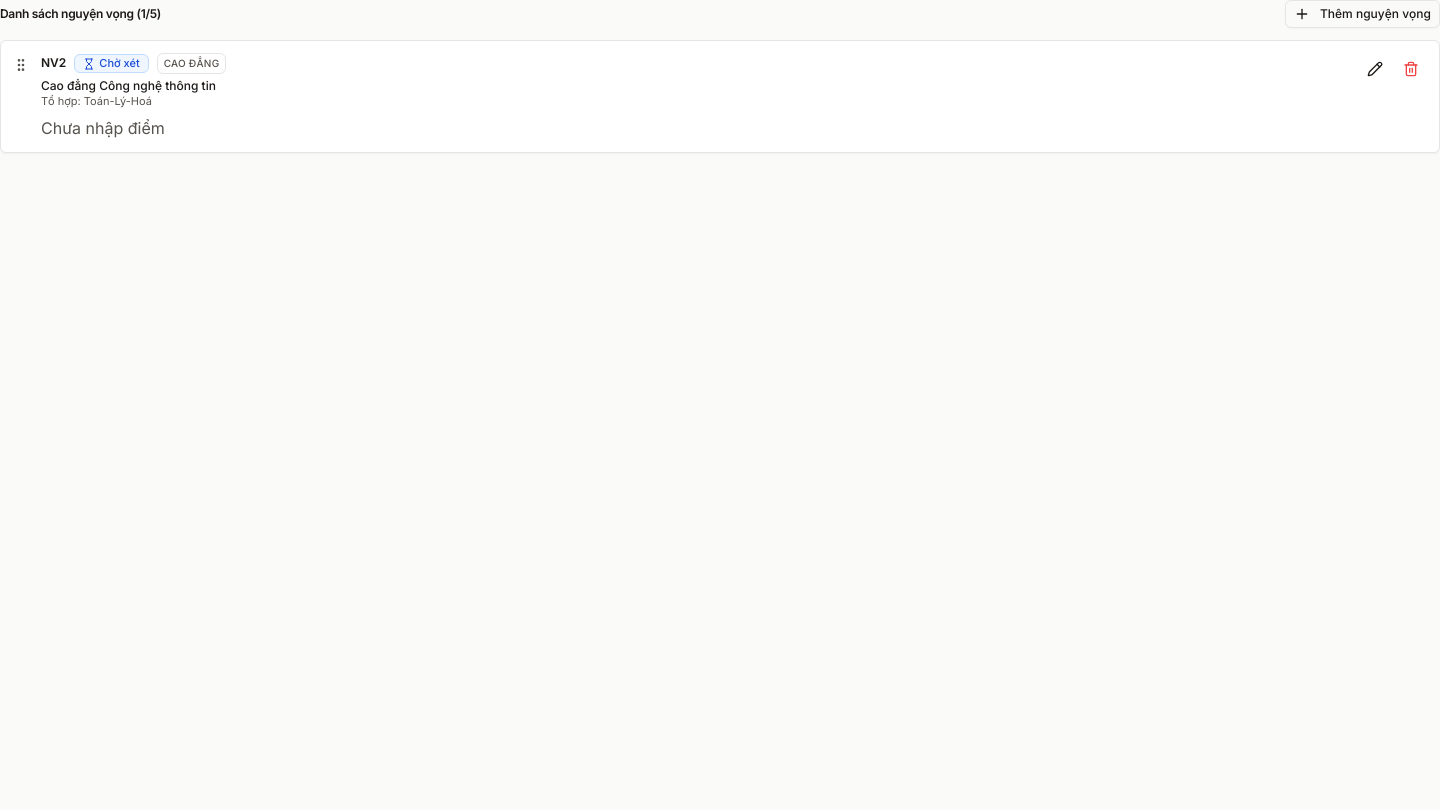
Test: ChoiceListEditor › clicking delete shows confirm dialog with NV label + choice display name
Click the button named "Xoá nguyện vọng 2": (1411,69) [1395,53,1427,85]
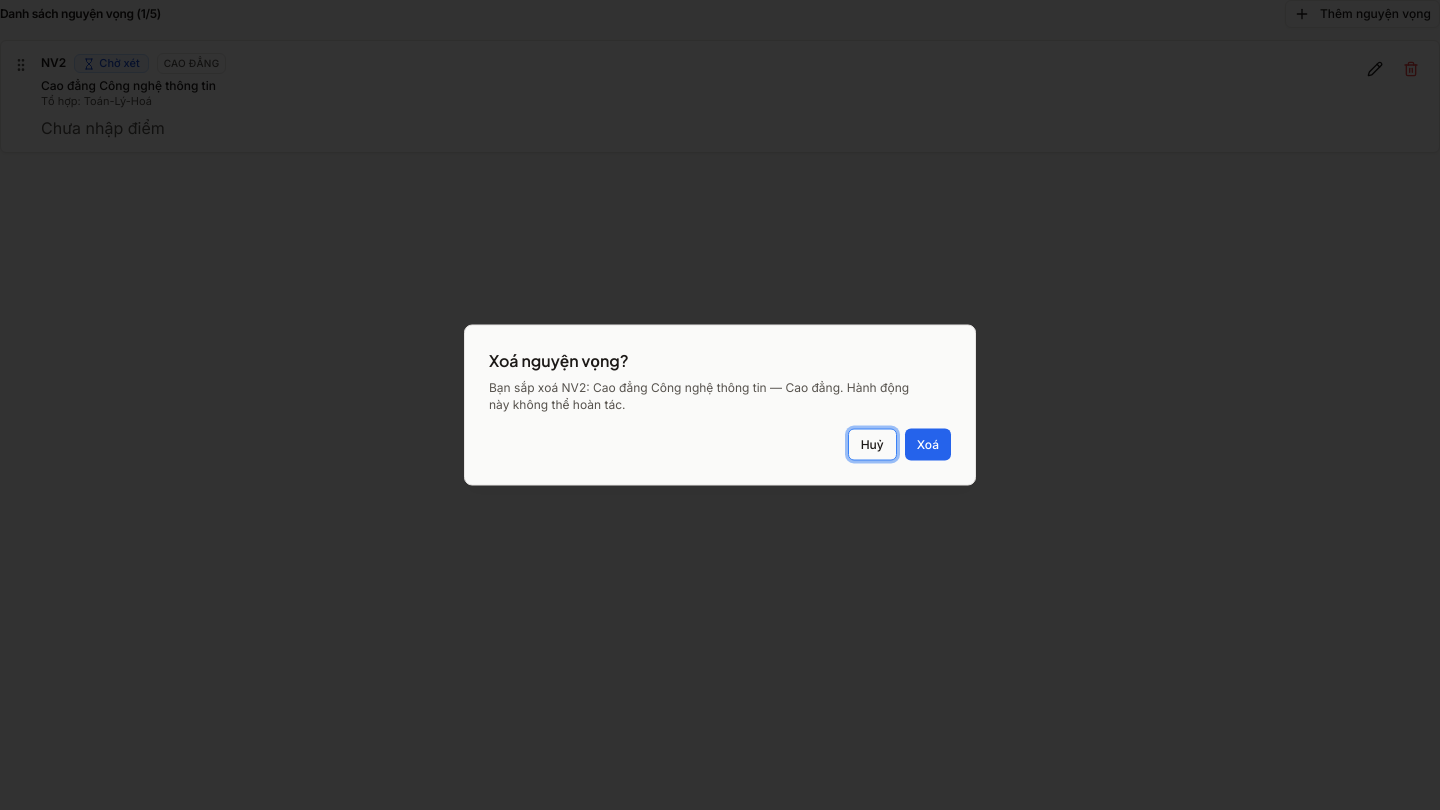
Expected: the heading "Xoá nguyện vọng?" is shown, [489,350,629,370]
